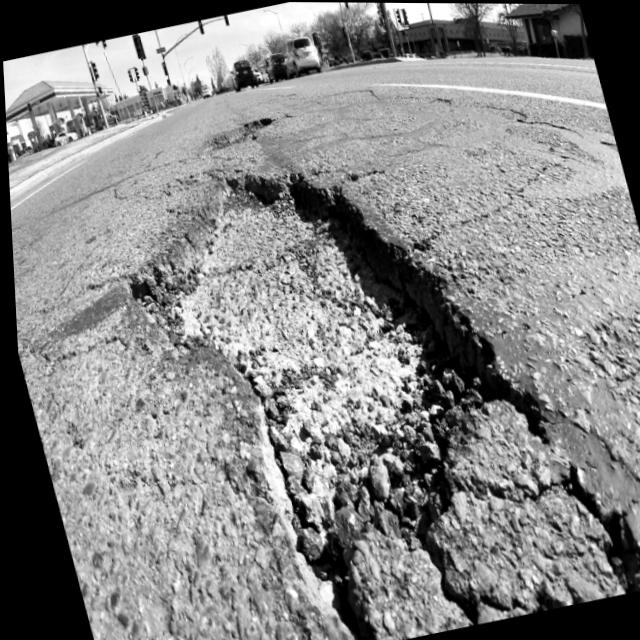pathole: (39, 36, 640, 640)
